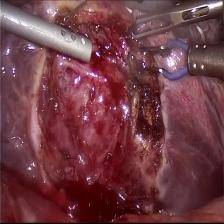Bipolar: (136, 42, 215, 82)
Grasper: (130, 6, 219, 40)
Irrigator: (48, 18, 95, 69)
